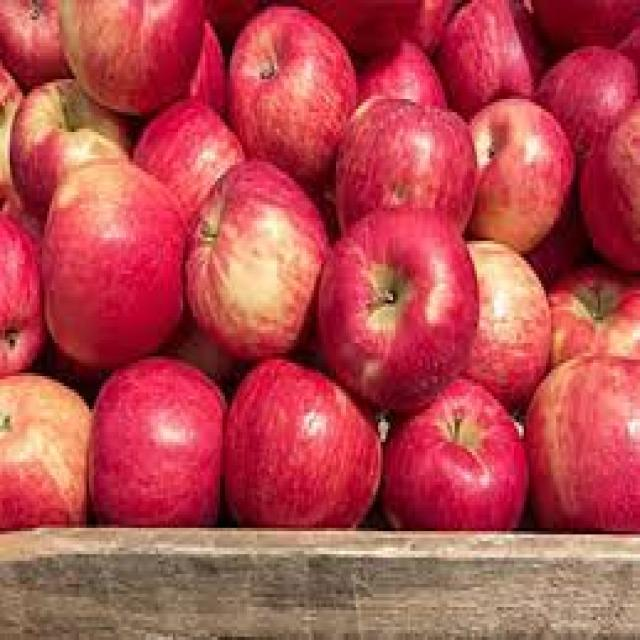Apple: (314, 205, 480, 412), (40, 155, 186, 366), (183, 158, 329, 360), (222, 356, 380, 528), (225, 3, 356, 192), (86, 353, 225, 525), (381, 376, 528, 528), (334, 93, 477, 235), (524, 353, 638, 531), (463, 98, 575, 262), (464, 96, 576, 254), (56, 0, 205, 115), (8, 76, 128, 214), (459, 238, 552, 412), (0, 369, 91, 531), (435, 0, 539, 115), (133, 97, 241, 205), (578, 92, 638, 274), (546, 260, 638, 370), (540, 43, 636, 140), (0, 208, 47, 379), (357, 37, 445, 118), (0, 0, 72, 89), (526, 0, 640, 47)
